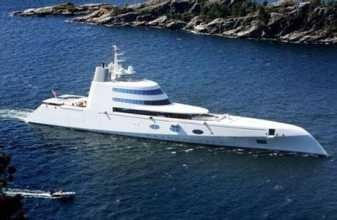yacht: (25, 46, 331, 157)
